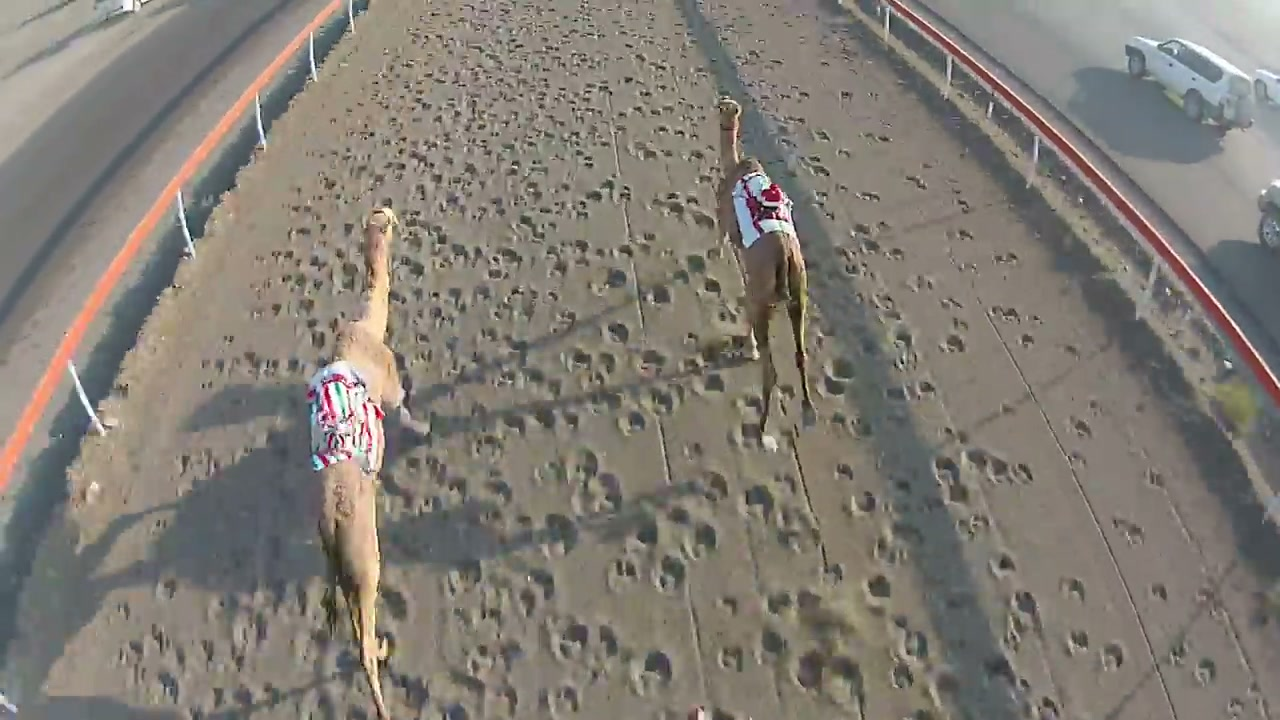animal_footprint: (768, 86, 1182, 706), (371, 56, 755, 717)
